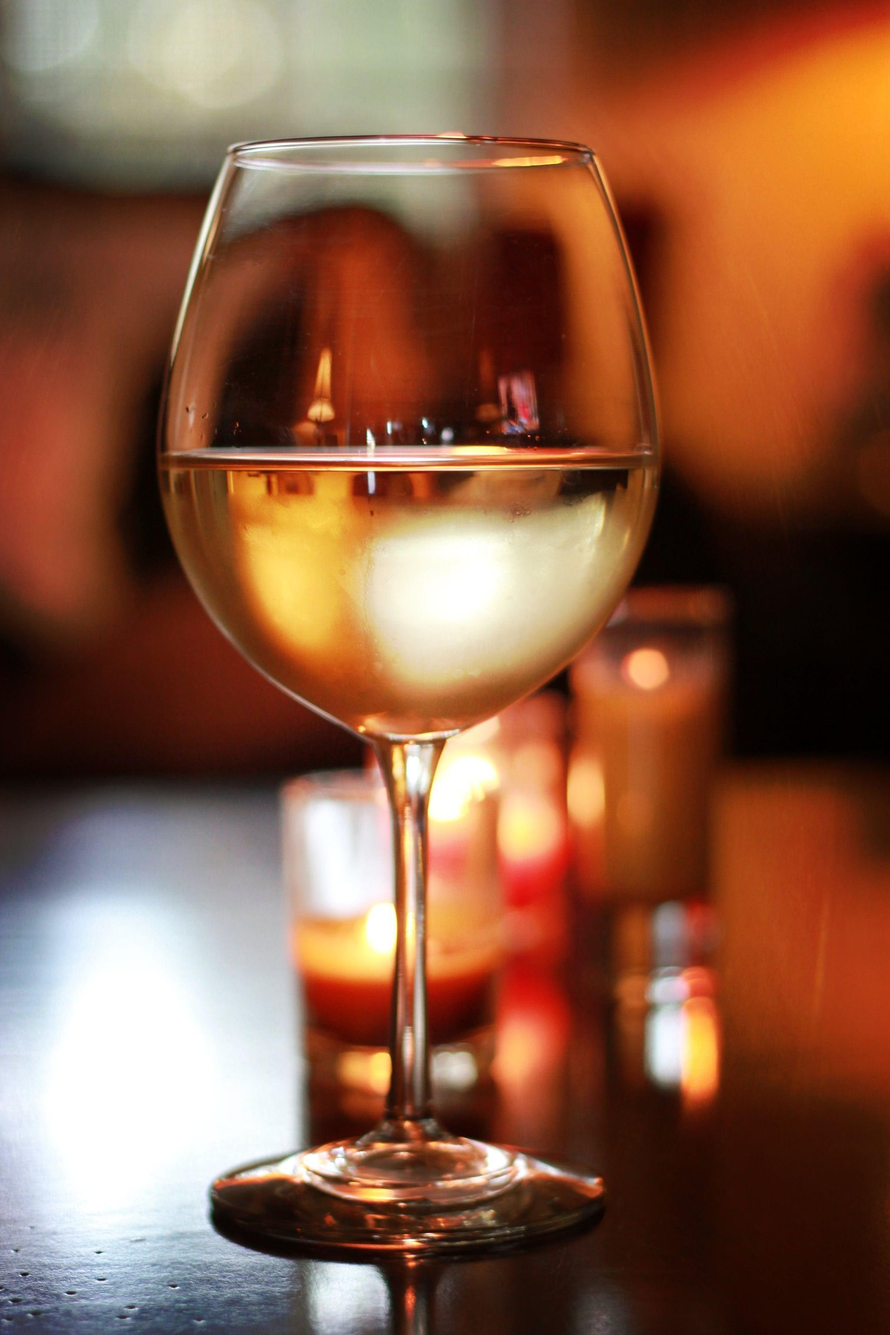glass-wine: (155, 121, 659, 1271)
